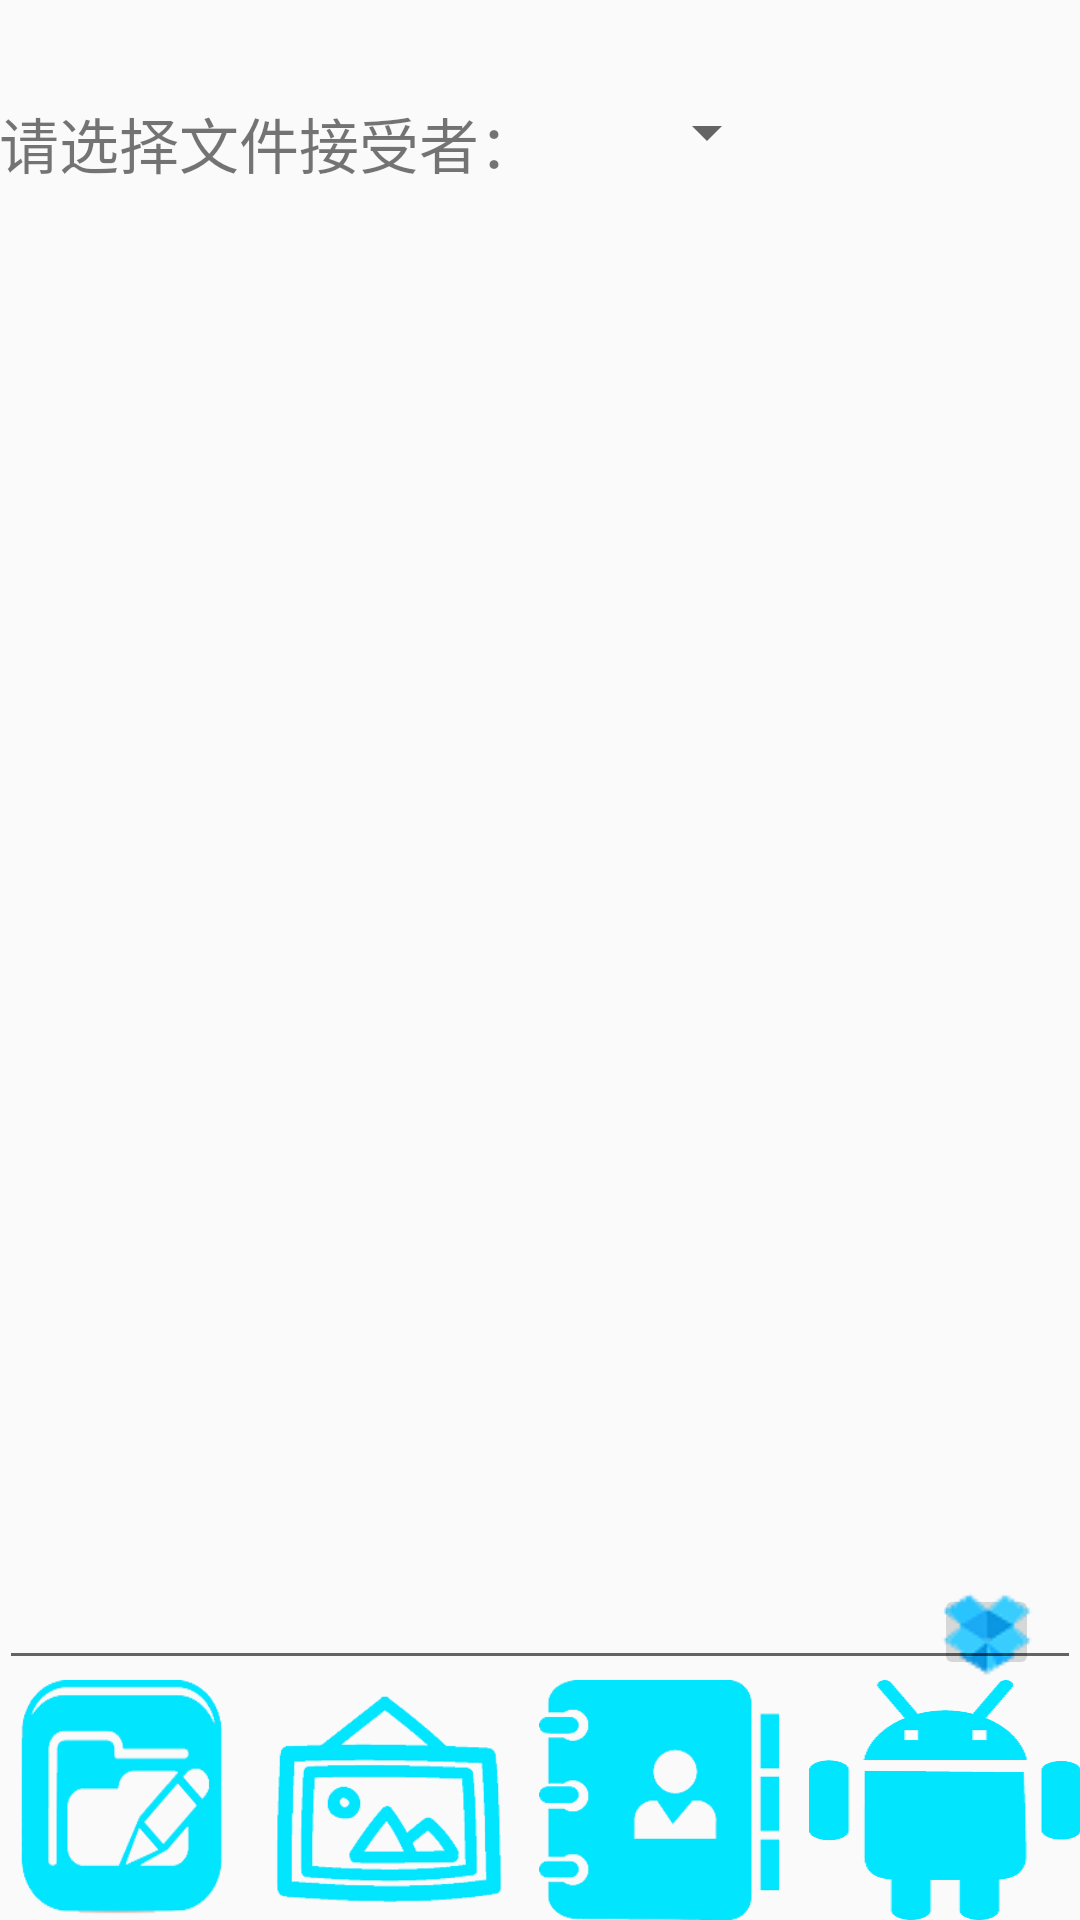

Screen size 1080px×1920px. Icon name, then its box in pixels as (x1, y1, x2, y2):
album: (277, 1696, 501, 1902)
all file: (21, 1680, 222, 1913)
contacts: (539, 1680, 779, 1920)
